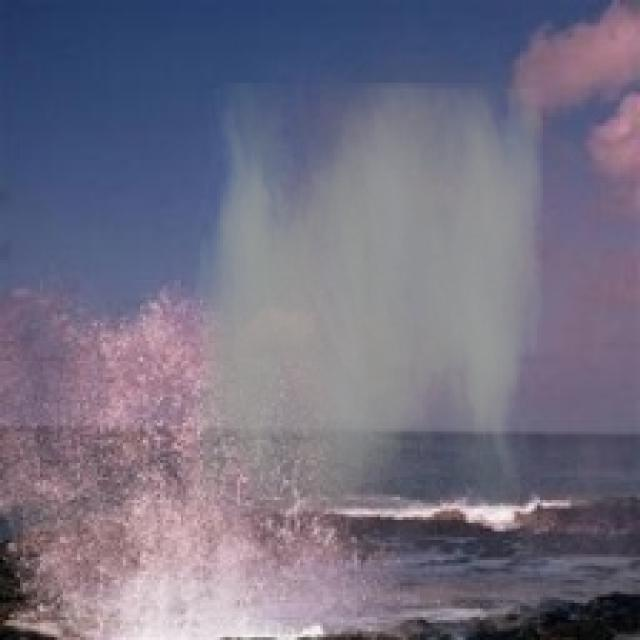smoke: (194, 83, 543, 508)
